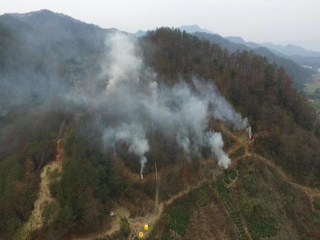smoke: (78, 33, 255, 177)
